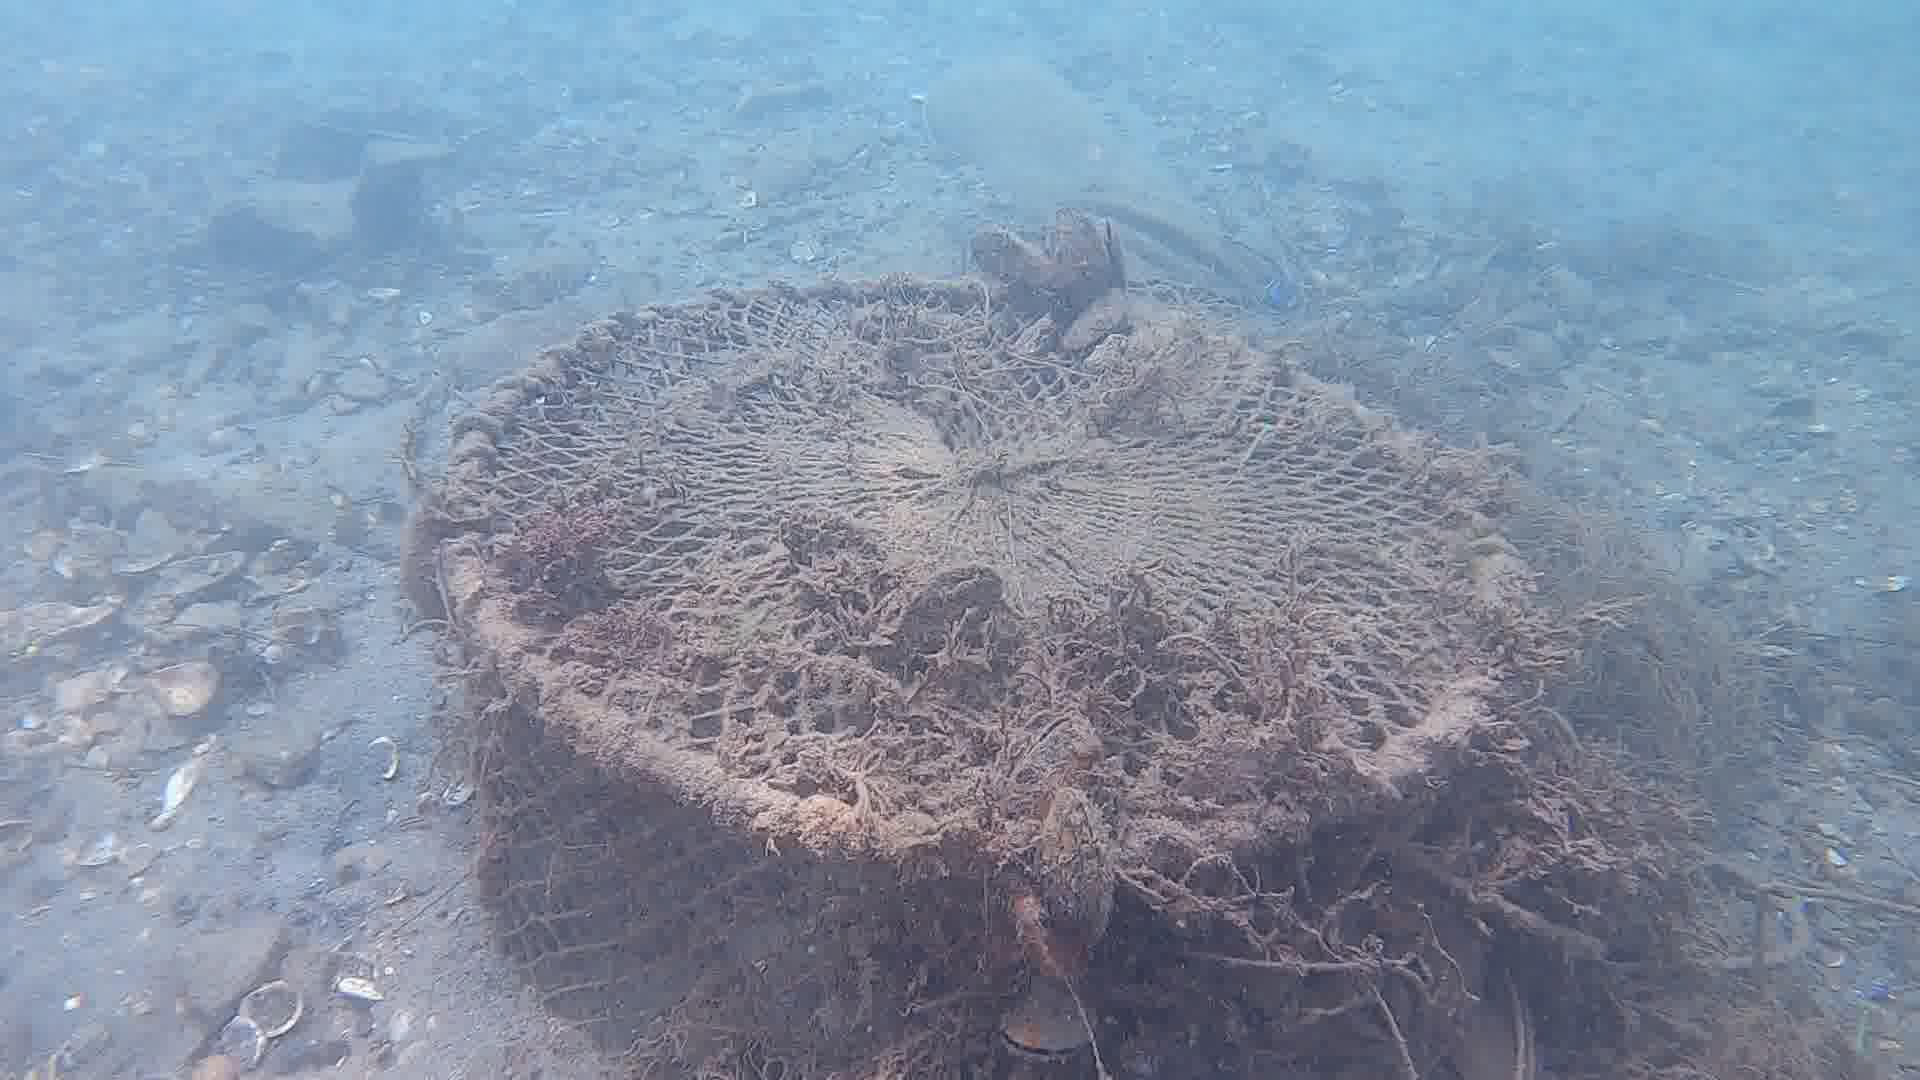circular fish trap: (429, 274, 1551, 1080)
